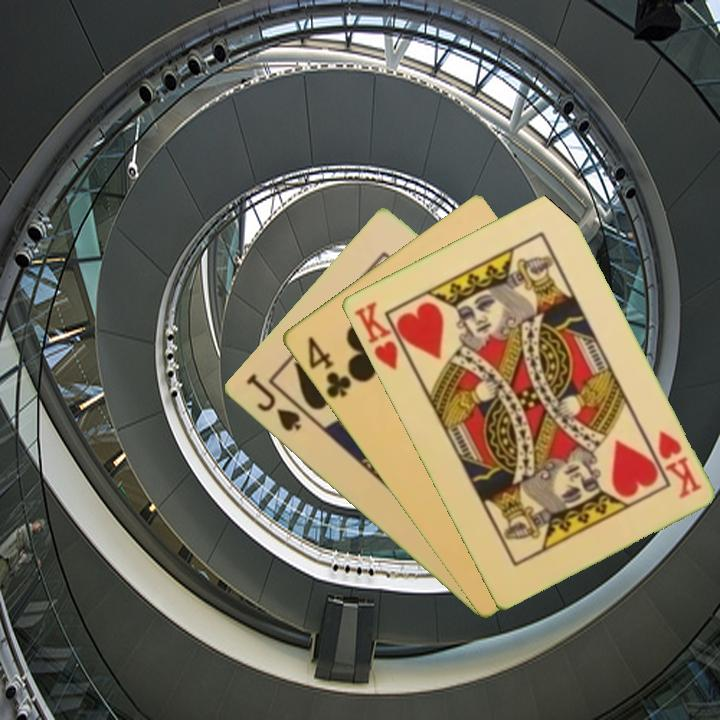4c: (303, 333, 354, 401)
Js: (241, 370, 304, 434)
Kh: (350, 297, 414, 373), (653, 427, 704, 502)
